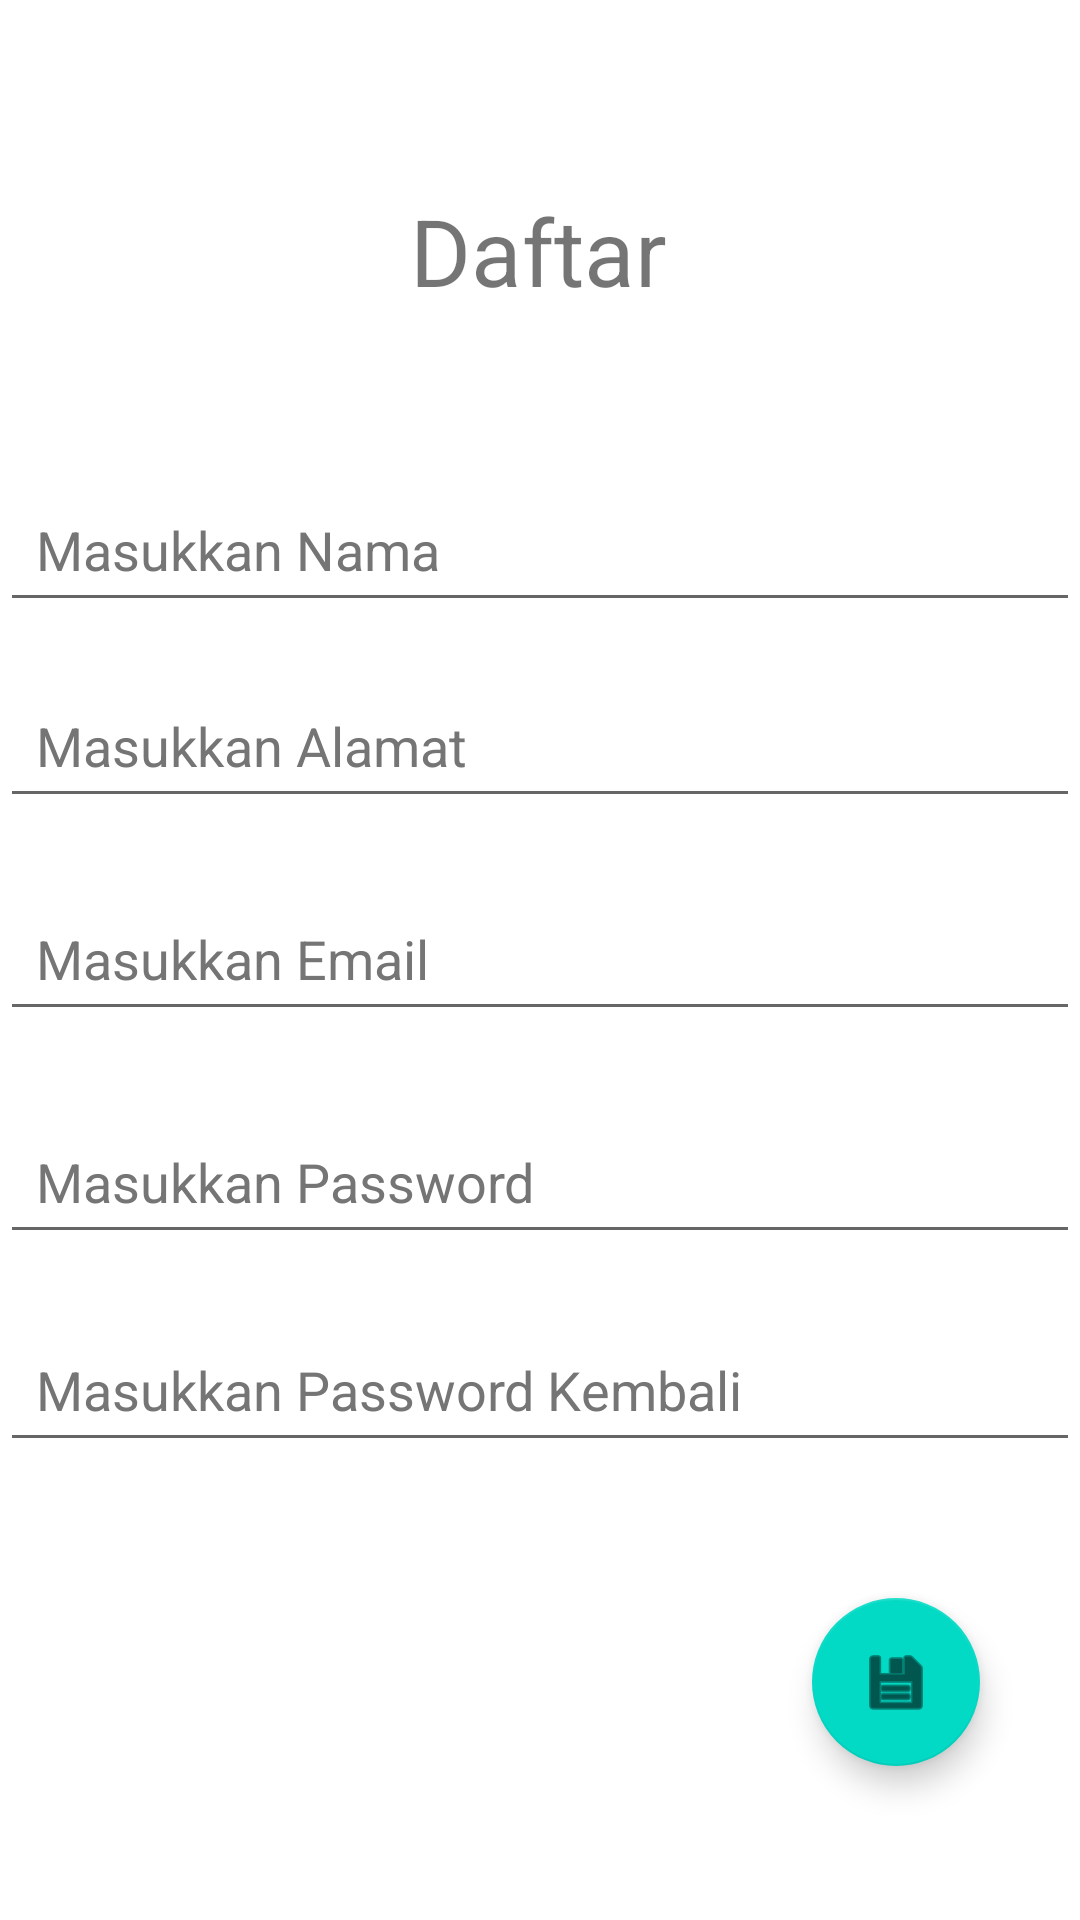

Screen size 1080px x 1920px. Icon name, then its box in pixels as (x1, y1, x2, y2):
Berhasil Menyimpan: (812, 1598, 980, 1766)
